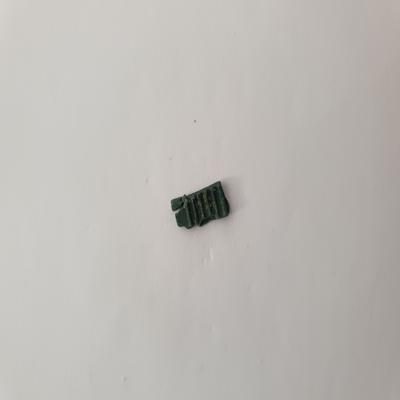plastic: (166, 178, 234, 236)
